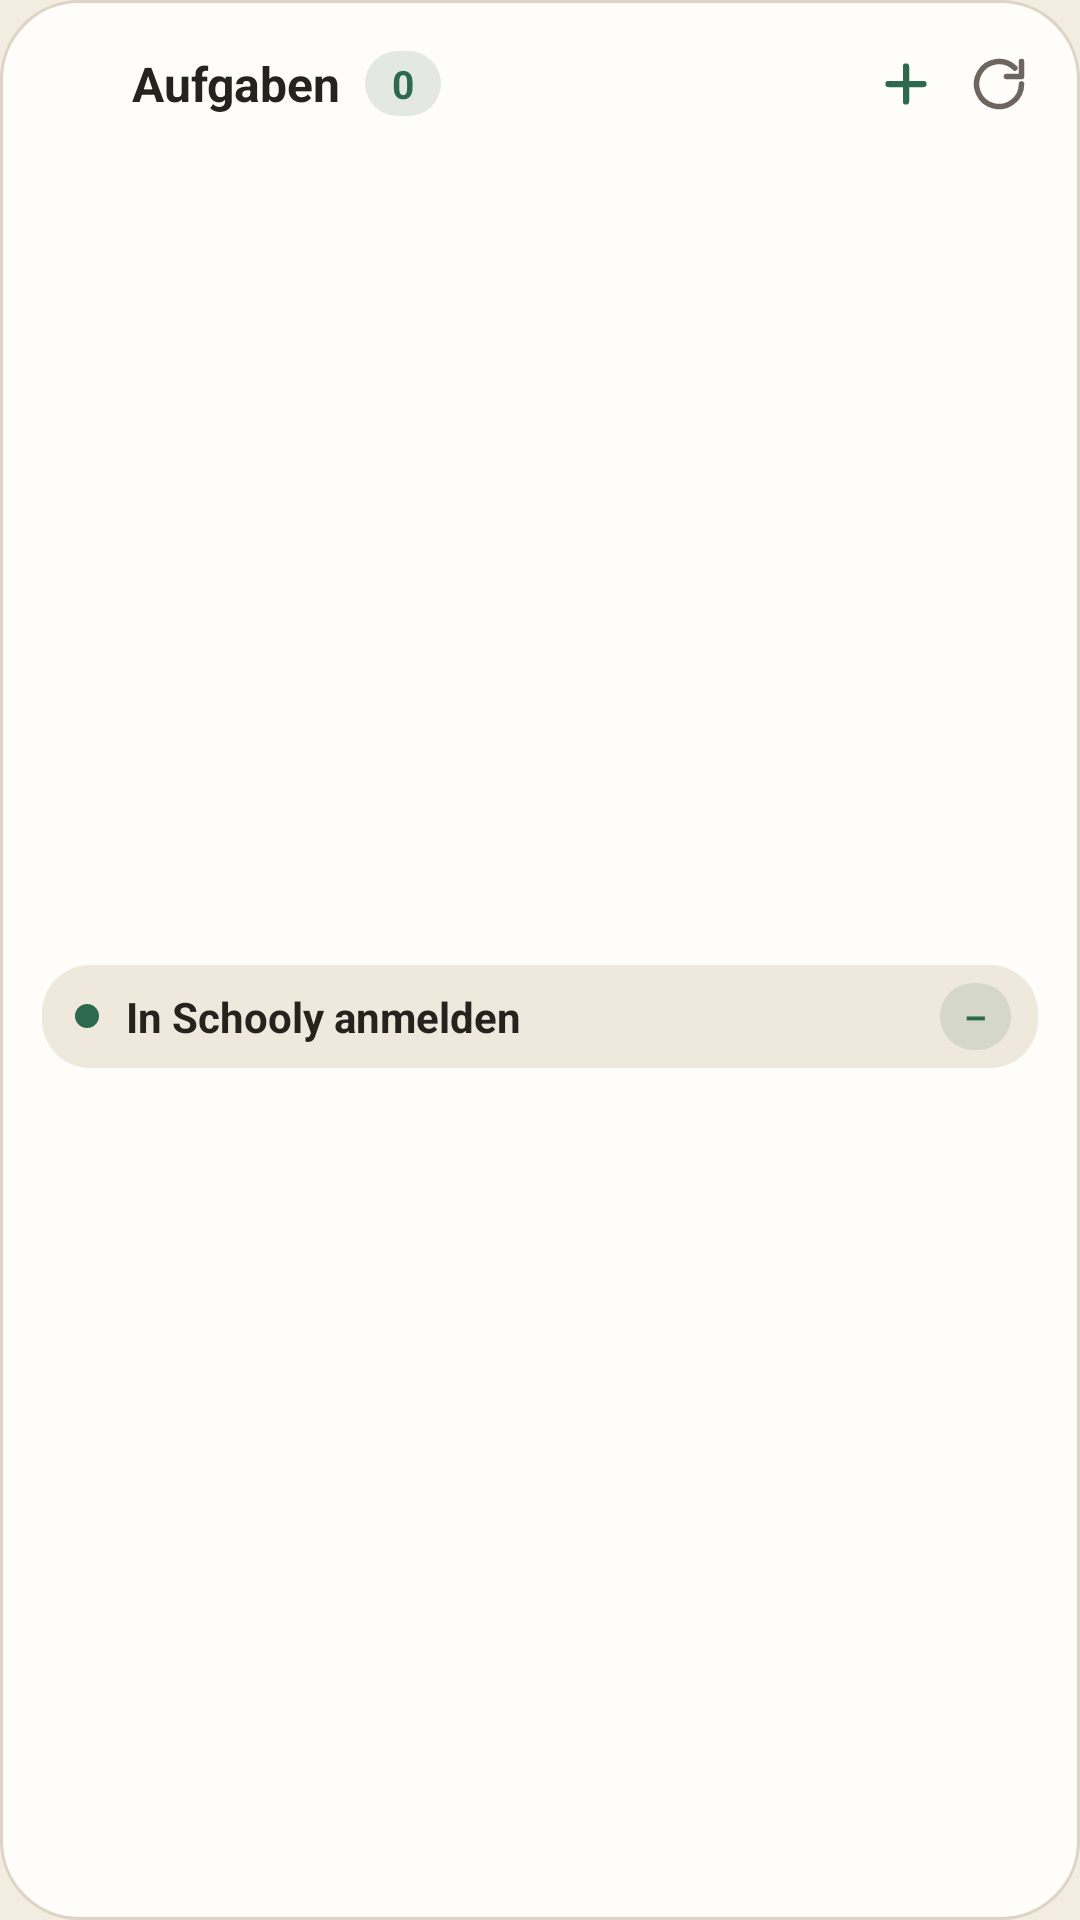

Screen size 1080px×1920px. Icon name, then its box in pixels as [left=x1, top=y1, right=x2, bottom=y2]:
Aktualisieren: [left=973, top=58, right=1025, bottom=110]
Aufgabe hinzufügen: [left=885, top=63, right=927, bottom=105]
